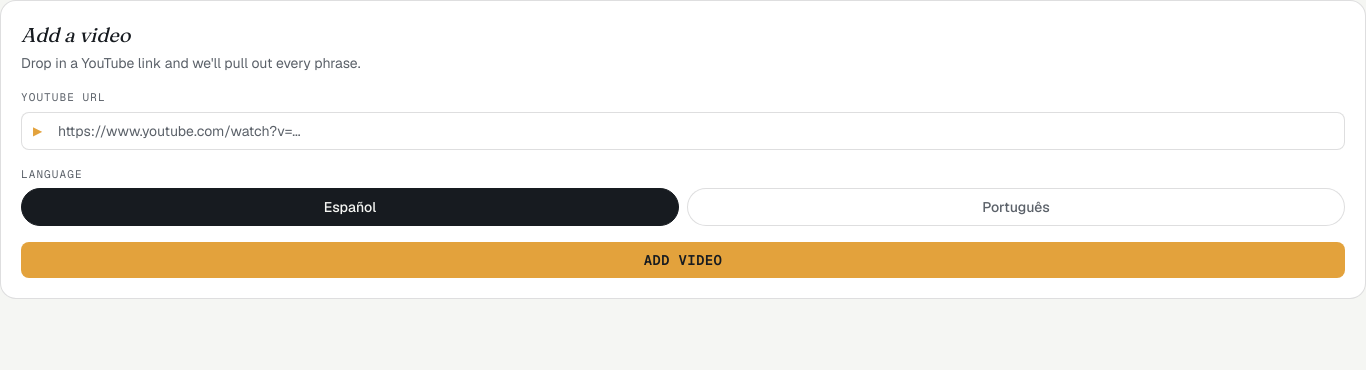
Test: IngestForm › shows a success message and clears the input after a new video is added
The image size is (1366, 370).
In the field labelled "YouTube URL": [683, 130] box [21,112,1345,150], type "https://www.youtube.com/watch?v=abc123"
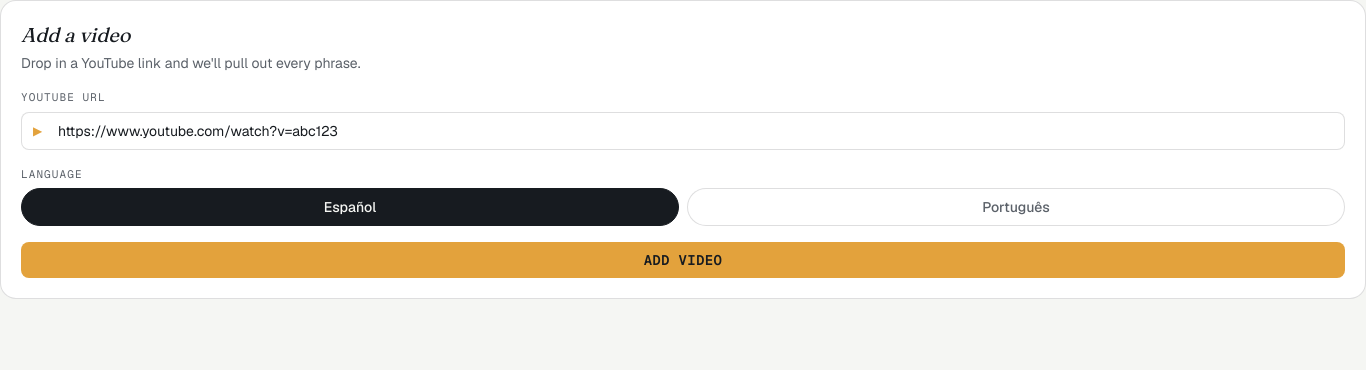
Click the button "Add video": [683, 260] box [21,242,1345,278]
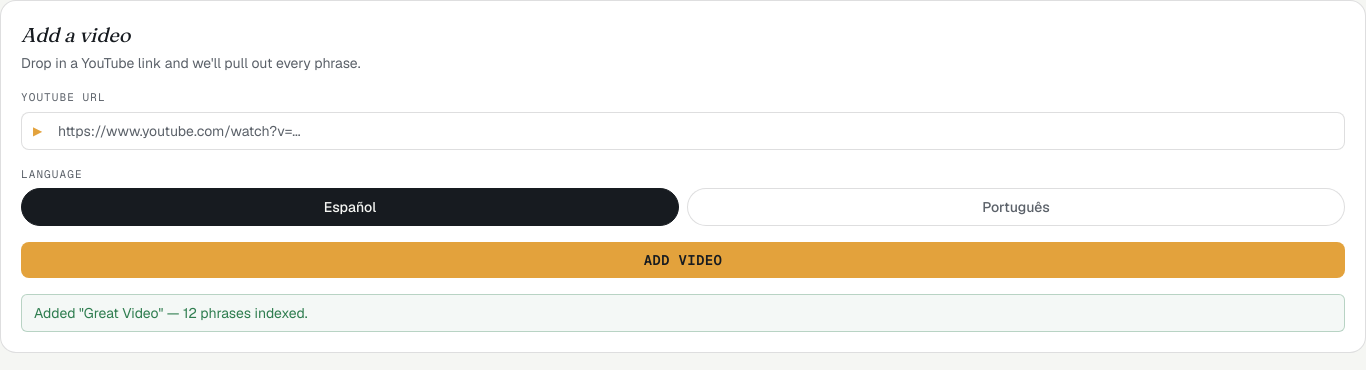
Expected: the message reads "Added \"Great Video\" — 12 phrases indexed.", [34,304,308,322]
Expected: the field labelled "YouTube URL" is empty, [21,112,1345,150]
